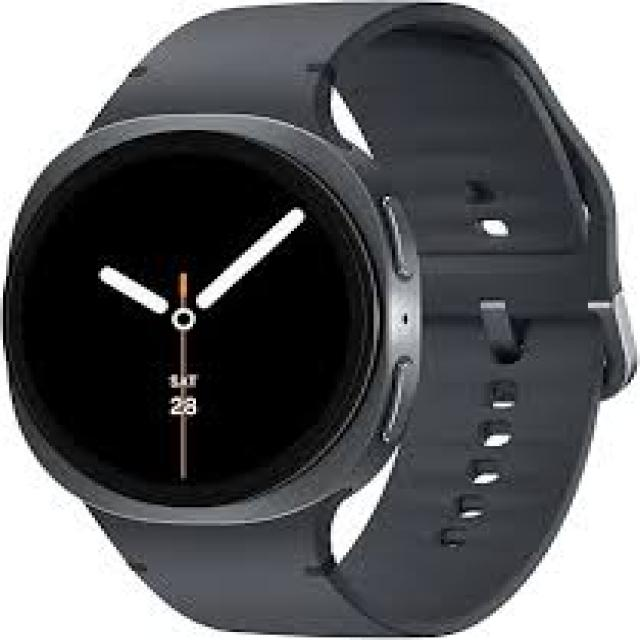objects: (3, 3, 631, 635)
